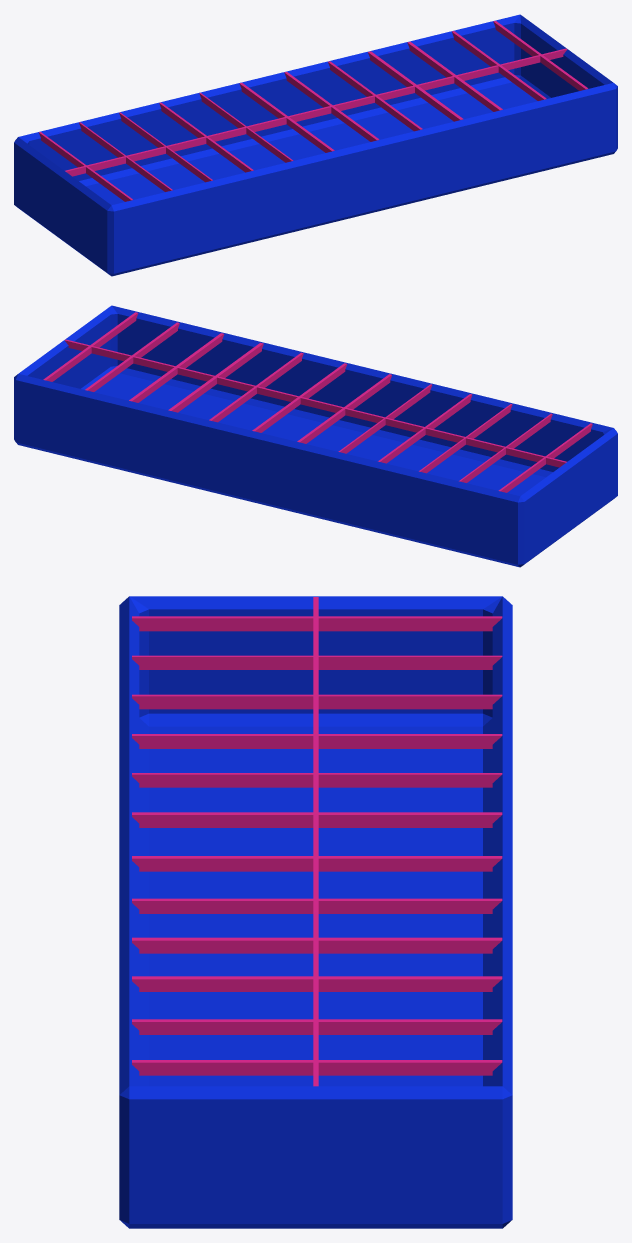
File: office light.fbx
3 renders of one model, top to bottom at view 1: azimuth 30°, elevation 25°; view 2: azimuth 150°, elevation 25°; view 3: azimuth 270°, elevation 25°, orthographic. The views are drawn at different scales.
Parts seen in each view (by area): view 1: body, grill; view 2: body, grill; view 3: body, grill.
Boxes of the visible parts, x1,y1,x2,y2 form: body: (14,14,617,276); grill: (39,21,588,201); body: (14,305,617,567); grill: (43,312,592,492); body: (119,596,512,1228); grill: (132,597,502,1086).
Size of the model in its own units: 150 by 20 by 50.
